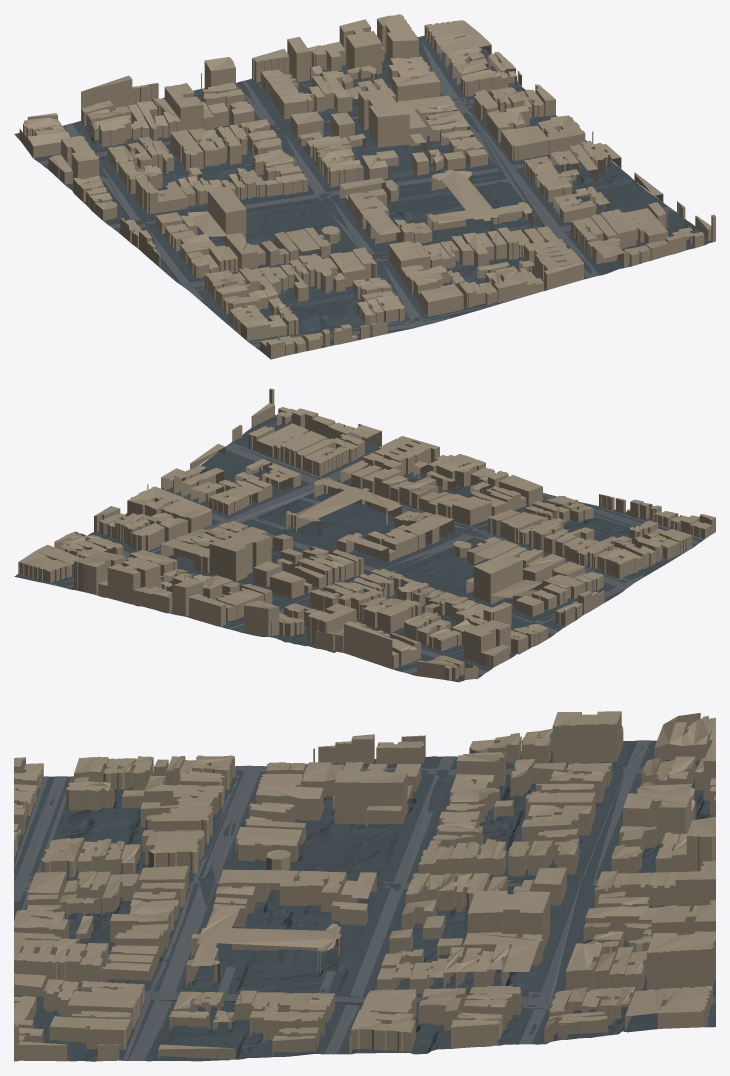
The model's file is epsg26910-1433-10894.lod0.glb.
The picture shows the model from 3 angles, top to bottom: view 1: azimuth 30°, elevation 25°; view 2: azimuth 150°, elevation 25°; view 3: azimuth 270°, elevation 25°; orthographic projection. The views are drawn at different scales.
Parts seen in each view (by area): view 1: epsg26910-1433-10894-lod0; view 2: epsg26910-1433-10894-lod0; view 3: epsg26910-1433-10894-lod0.
Boxes of the visible parts, left/top/right/bottom form: epsg26910-1433-10894-lod0: left=14, top=14, right=715, bottom=359; epsg26910-1433-10894-lod0: left=14, top=388, right=715, bottom=682; epsg26910-1433-10894-lod0: left=14, top=711, right=715, bottom=1061.
Size of the model in its own units: 384 by 59.11 by 384.
